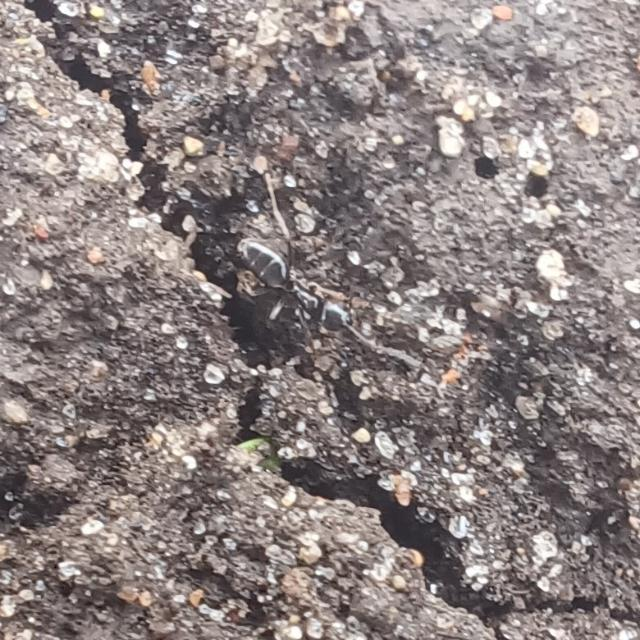Tapinoma: (226, 220, 368, 348)
